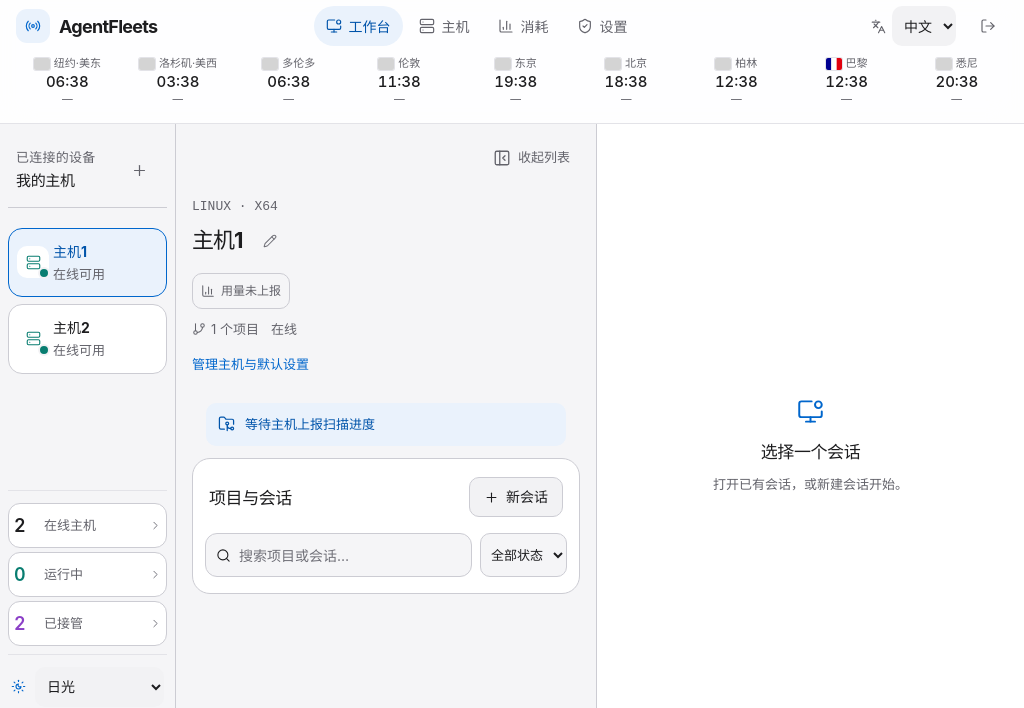
Scenario: 会话工作区 › 底部已接管列出所有会话，选择后直接打开对应会话
Click the button with aria-label "查看已接管的会话（2）".
click(88, 623)  # box [8,601,167,646]
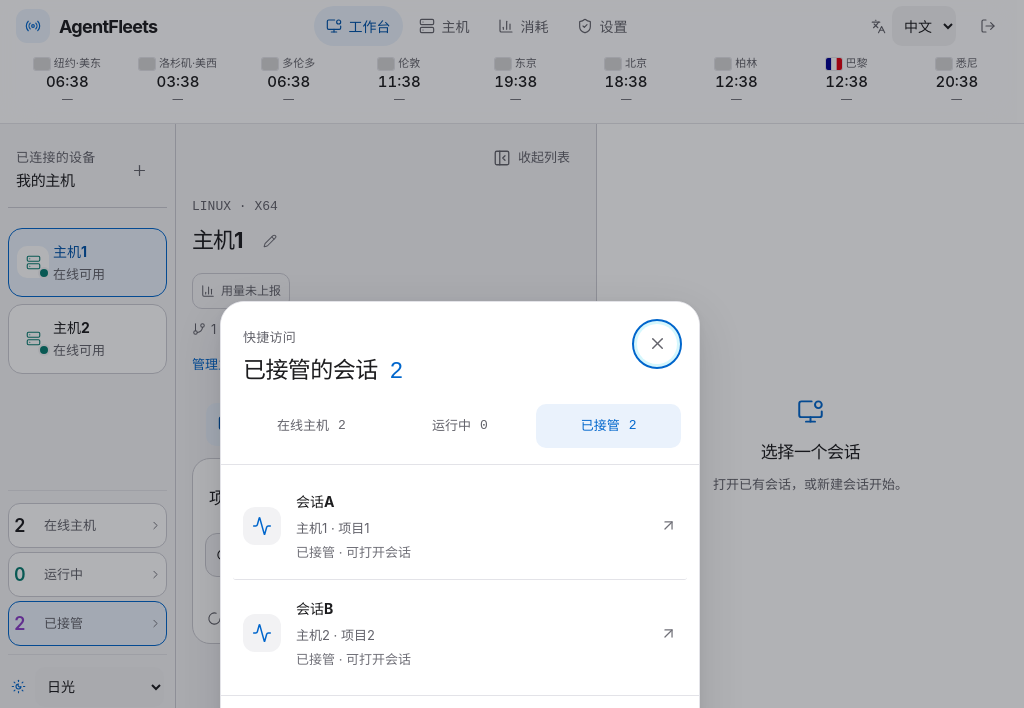
Expected: the button "会话A 主机1 · 项目1 已接管 · 可打开会话" is shown, [233,473,687,580]
Click the button "会话B 主机2 · 项目2 已接管 · 可打开会话".
click(262, 633)  # box [233,580,687,686]
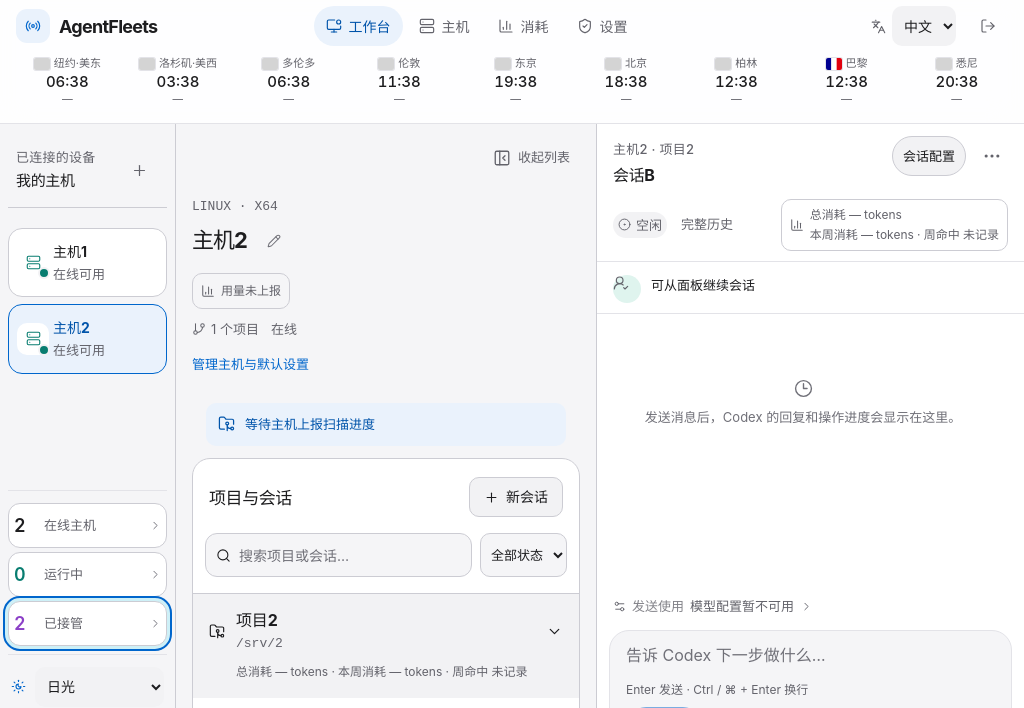
Expected: the text box named "发送给 Codex 的消息" is shown, [610,631,1011,681]
